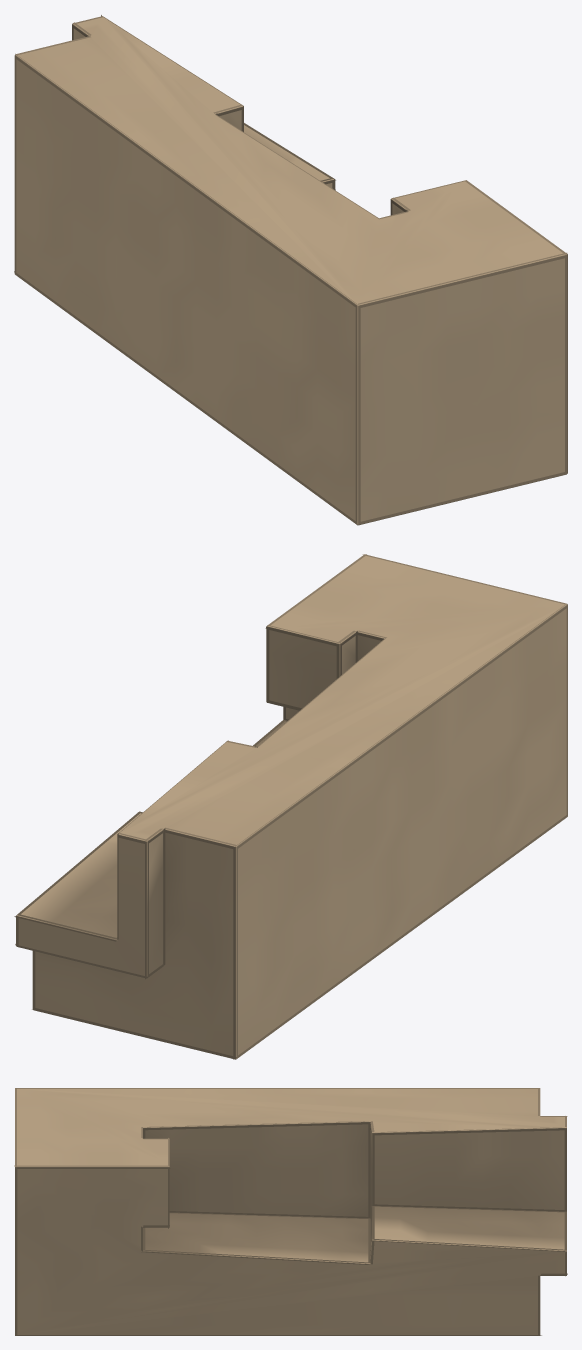
The picture shows the model from 3 angles, top to bottom: view 1: azimuth 30°, elevation 25°; view 2: azimuth 150°, elevation 25°; view 3: azimuth 270°, elevation 25°; orthographic projection. The views are drawn at different scales.
Visible parts, largest first — view 1: part-b; view 2: part-b; view 3: part-b.
Part boxes in pixels (left/top/right/bottom): part-b: left=14, top=15, right=567, bottom=525; part-b: left=14, top=554, right=567, bottom=1059; part-b: left=14, top=1088, right=567, bottom=1335.
Bounding box in the file's own units: 0.1219 × 0.1219 × 0.3583.
